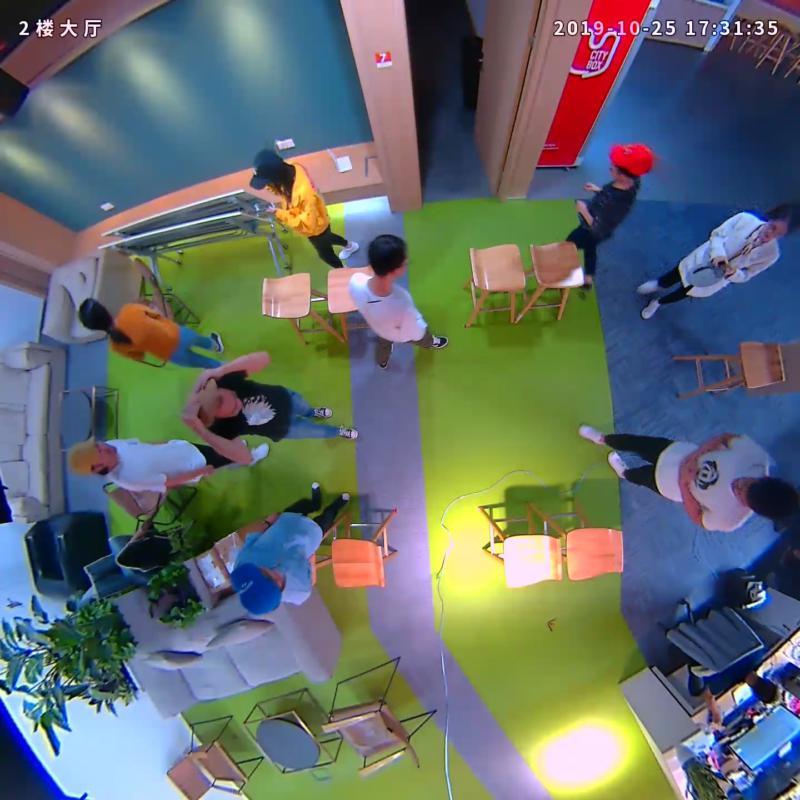head: (735, 476, 800, 521), (229, 561, 283, 615), (67, 435, 119, 476), (198, 380, 242, 426), (607, 142, 654, 183), (368, 234, 408, 281), (759, 202, 800, 242), (249, 148, 286, 191), (78, 296, 113, 333)
